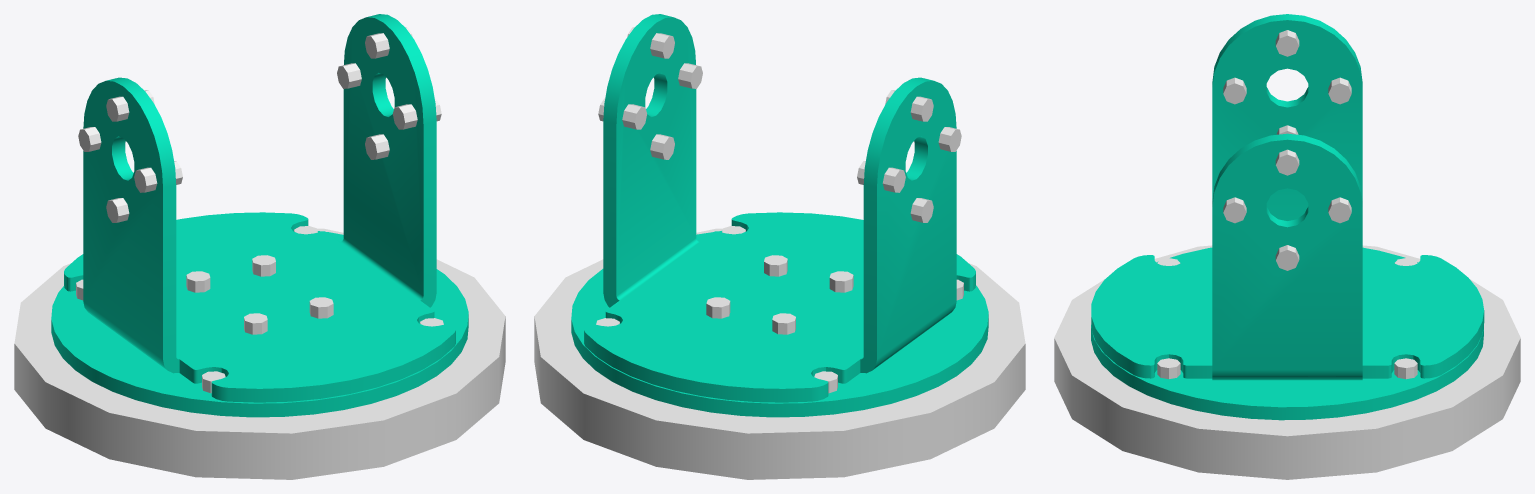
Rendered from arm1.gltf.
3 renders of one model, left to right at view 1: azimuth 30°, elevation 25°; view 2: azimuth 150°, elevation 25°; view 3: azimuth 270°, elevation 25°, orthographic. The views are drawn at different scales.
Parts seen in each view (by area): view 1: Arm1; view 2: Arm1; view 3: Arm1.
Part boxes in pixels (x1,y1,x2,y2): Arm1: [14, 14, 505, 479]; Arm1: [534, 14, 1025, 479]; Arm1: [1054, 14, 1520, 479].
Size of the model in its own units: 2.57 by 1.98 by 2.57.
